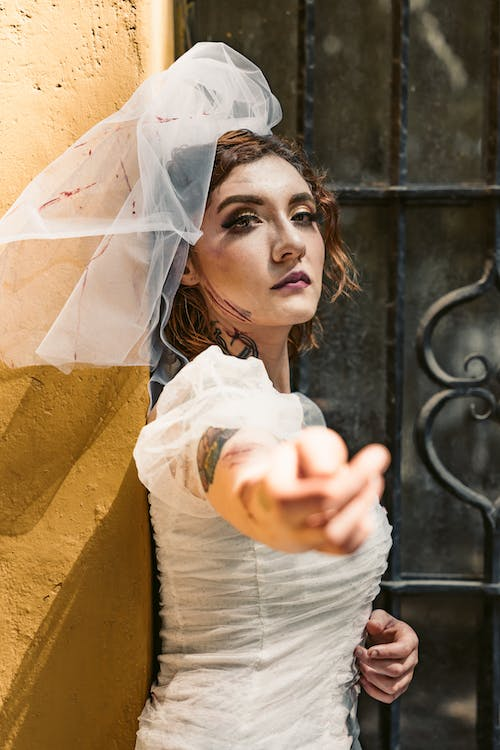blood: (35, 110, 211, 362), (220, 441, 274, 528), (201, 281, 257, 327)
